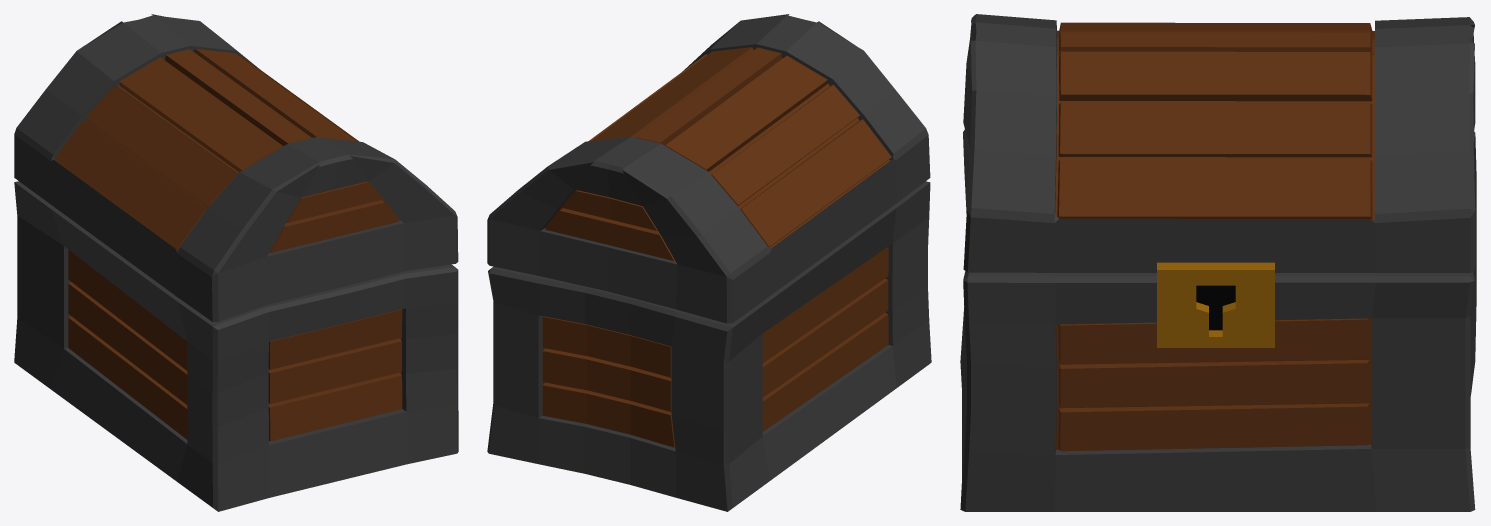
Rendered from SM_TreasureChest.fbx.
3 views of the same model, side by side, from view 1: azimuth 30°, elevation 25°; view 2: azimuth 150°, elevation 25°; view 3: azimuth 270°, elevation 25° (orthographic). The views are drawn at different scales.
Visible parts, largest first — view 1: Cube; view 2: Cube; view 3: Cube.
Part boxes in pixels (box(x1,y1,x2,y2)): Cube: box(14, 14, 458, 511); Cube: box(487, 14, 931, 511); Cube: box(960, 14, 1476, 511).
Size of the model in its own units: 147 by 174 by 200.
